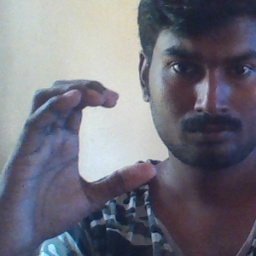C: (18, 77, 161, 211)
